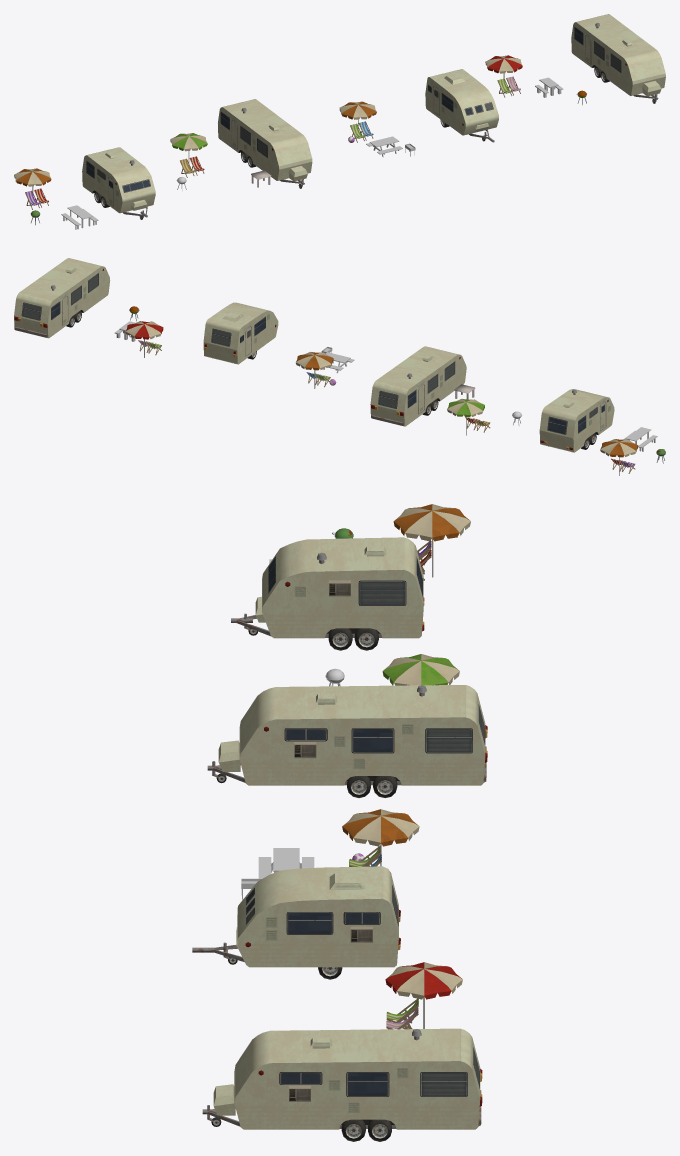
File: Camping.fbx
The picture shows the model from 3 angles, top to bottom: view 1: azimuth 30°, elevation 25°; view 2: azimuth 150°, elevation 25°; view 3: azimuth 270°, elevation 25°; orthographic projection. The views are drawn at different scales.
Parts seen in each view (by area): view 1: MobileHouse1.002, MobileHouse1, MobileHouse2.003, MobileHouse3.007, BeachUnbrella1b.001, BeachUnbrella1c.001, BeachUnbrella1d.006, BeachUnbrella1d.004, table.006, Stol.007; view 2: MobileHouse1.002, MobileHouse1, MobileHouse2.003, MobileHouse3.007, BeachUnbrella1b.001, BeachUnbrella1c.001, BeachUnbrella1d.006, BeachUnbrella1d.004, table.006; view 3: MobileHouse1.002, MobileHouse1, MobileHouse2.003, MobileHouse3.007, BeachUnbrella1d.006, BeachUnbrella1c.001, BeachUnbrella1d.004, BeachUnbrella1b.001, Stol.007.
Part boxes in pixels (x1,y1,x2,y2): MobileHouse1.002: (571, 14, 665, 103); MobileHouse1: (218, 99, 312, 188); MobileHouse2.003: (82, 147, 155, 219); MobileHouse3.007: (425, 69, 498, 142); BeachUnbrella1b.001: (170, 133, 207, 177); BeachUnbrella1c.001: (14, 168, 51, 209); BeachUnbrella1d.006: (485, 55, 522, 97); BeachUnbrella1d.004: (339, 101, 376, 128); table.006: (61, 205, 98, 229); Stol.007: (366, 136, 402, 157); MobileHouse1.002: (14, 258, 110, 338); MobileHouse1: (370, 346, 466, 426); MobileHouse2.003: (539, 389, 614, 452); MobileHouse3.007: (203, 302, 278, 364); BeachUnbrella1b.001: (447, 399, 490, 435); BeachUnbrella1c.001: (600, 439, 638, 475); BeachUnbrella1d.006: (125, 321, 163, 357); BeachUnbrella1d.004: (295, 352, 333, 388); table.006: (623, 427, 657, 451); MobileHouse1.002: (202, 1028, 482, 1141); MobileHouse1: (207, 685, 487, 797); MobileHouse2.003: (231, 537, 424, 650); MobileHouse3.007: (192, 866, 400, 979); BeachUnbrella1d.006: (385, 962, 462, 1029); BeachUnbrella1c.001: (393, 504, 470, 580); BeachUnbrella1d.004: (342, 809, 419, 866); BeachUnbrella1b.001: (382, 654, 459, 685); Stol.007: (258, 848, 314, 878).
Size of the model in its own units: 5270 by 389 by 1104.
